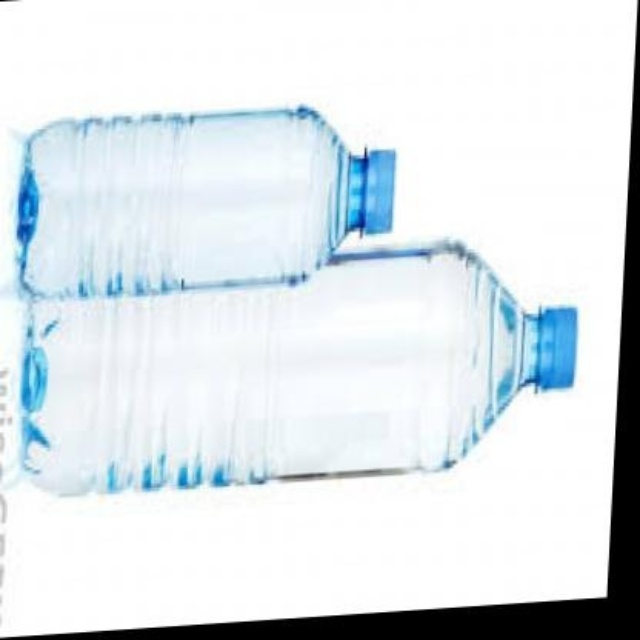trash: (0, 106, 532, 494), (17, 108, 348, 295)
